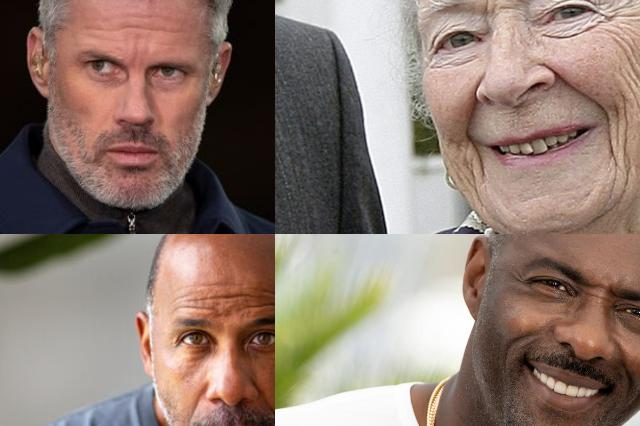crows_feet: (600, 0, 640, 26), (508, 268, 528, 288)
forehead: (118, 10, 176, 40), (228, 285, 275, 311), (177, 286, 213, 316)
frown_line: (479, 0, 512, 19), (586, 287, 610, 307)
gummy_smile: (557, 69, 599, 108), (458, 96, 480, 130), (253, 384, 275, 416), (188, 384, 208, 416)
masseter: (610, 37, 640, 95)
sad_smile: (604, 107, 634, 169), (464, 140, 494, 182)
